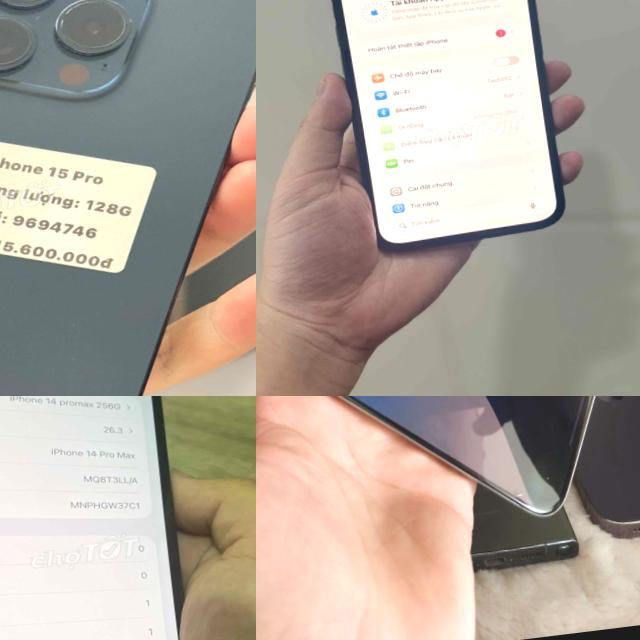physical_damage: (510, 479, 532, 516), (293, 396, 337, 412)
scratch: (30, 11, 44, 22), (544, 471, 551, 486)
